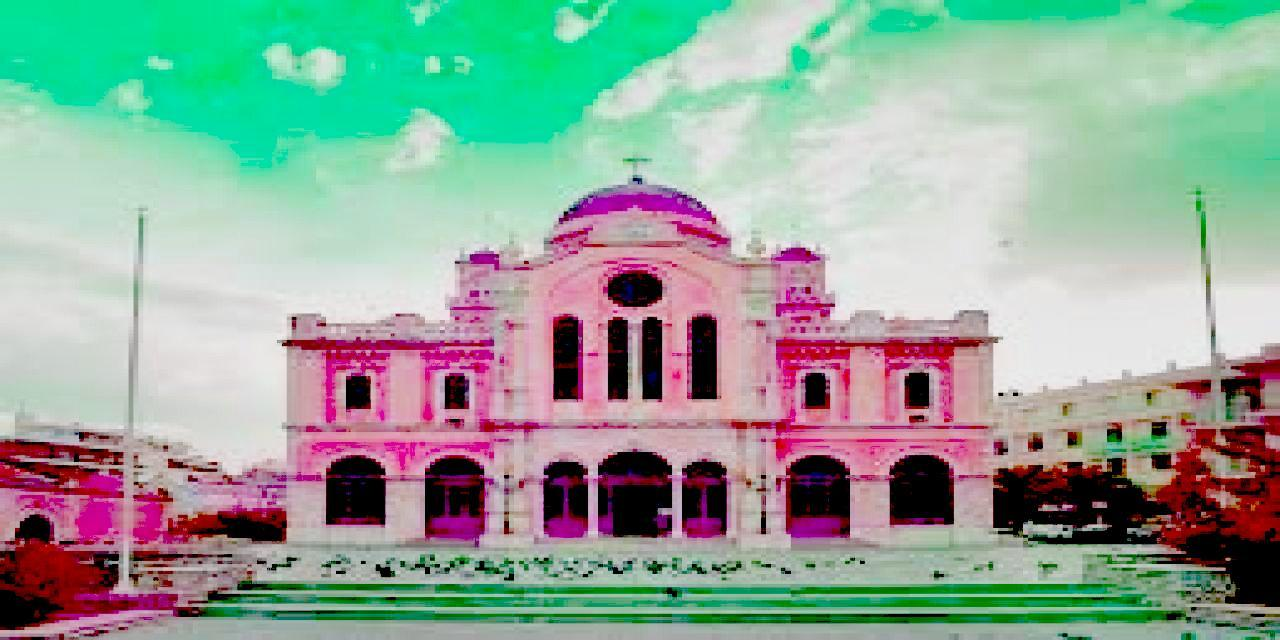Agios Minas: (282, 167, 1011, 550)
